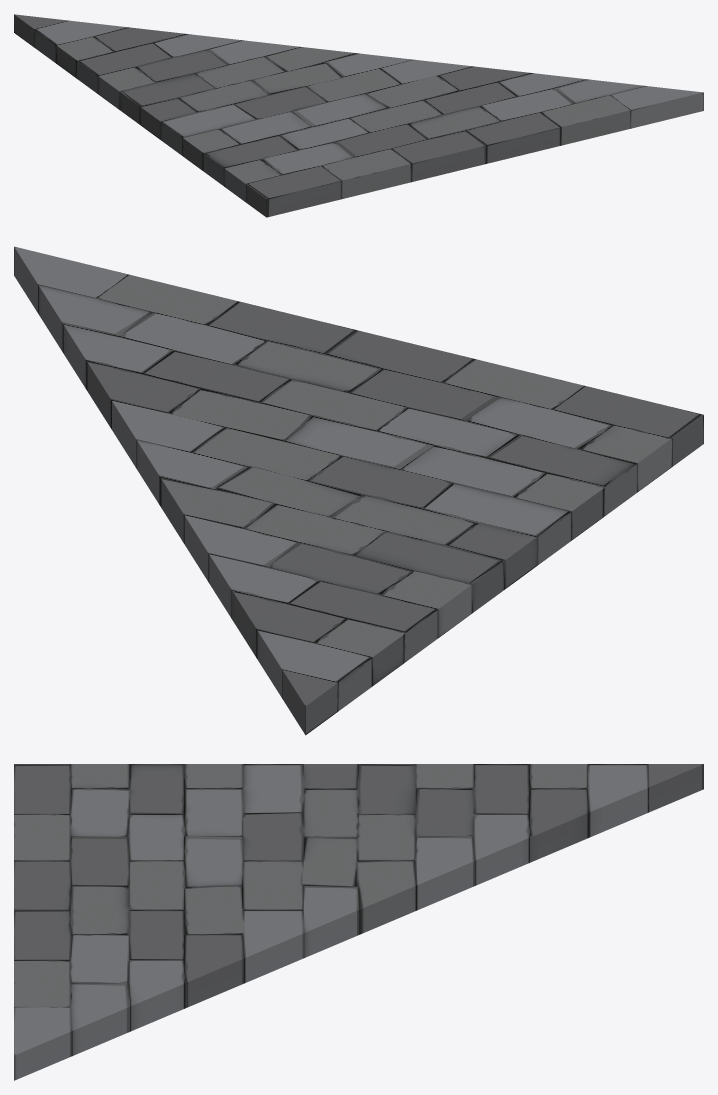
Rendered from SM_Bld_Base_45_Floor_Combined_01.fbx.
The picture shows the model from 3 angles, top to bottom: view 1: azimuth 30°, elevation 25°; view 2: azimuth 150°, elevation 25°; view 3: azimuth 270°, elevation 25°; orthographic projection. The views are drawn at different scales.
Parts seen in each view (by area): view 1: SM_Bld_Base_45_Floor_Combined_01; view 2: SM_Bld_Base_45_Floor_Combined_01; view 3: SM_Bld_Base_45_Floor_Combined_01.
Boxes of the visible parts, <box> form: SM_Bld_Base_45_Floor_Combined_01: <box>14,14,703,217</box>; SM_Bld_Base_45_Floor_Combined_01: <box>14,246,703,735</box>; SM_Bld_Base_45_Floor_Combined_01: <box>14,764,703,1080</box>.
Bounding box in the file's own units: 250 × 10.06 × 250.
